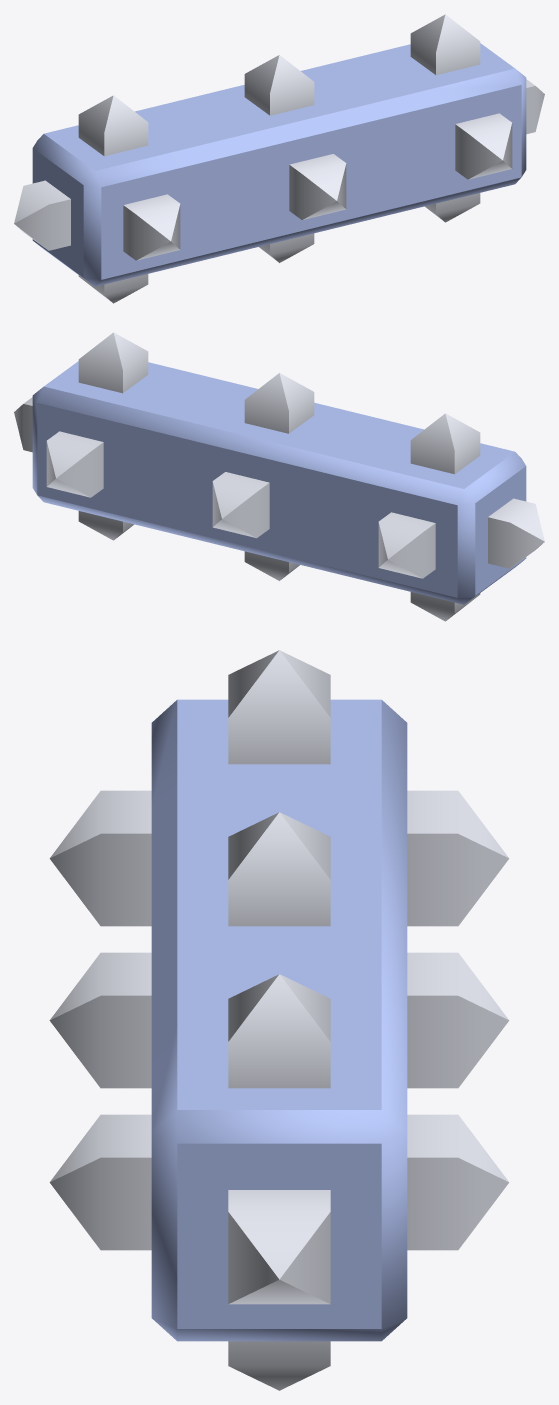
3 views of the same model, one above another, from view 1: azimuth 30°, elevation 25°; view 2: azimuth 150°, elevation 25°; view 3: azimuth 270°, elevation 25° (orthographic). The views are drawn at different scales.
Parts seen in each view (by area): view 1: spikeBlockWide; view 2: spikeBlockWide; view 3: spikeBlockWide.
Boxes of the visible parts, left/top/right/bottom form: spikeBlockWide: left=14, top=14, right=544, bottom=303; spikeBlockWide: left=14, top=332, right=544, bottom=621; spikeBlockWide: left=49, top=650, right=509, bottom=1390.
Size of the model in its own units: 2.4 by 0.9 by 0.9.
